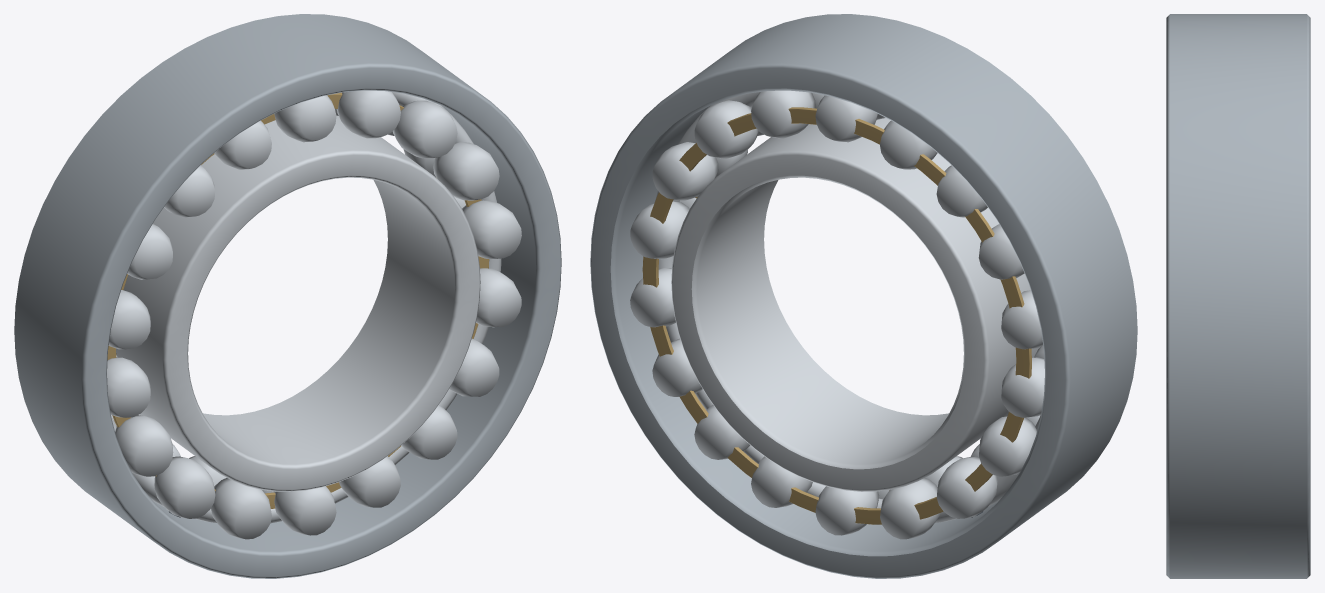
The model's file is skf-22220-e.glb.
The picture shows the model from 3 angles, left to right: view 1: azimuth 30°, elevation 25°; view 2: azimuth 150°, elevation 25°; view 3: azimuth 270°, elevation 25°; orthographic projection.
Visible parts, largest first — view 1: 外圈, 内圈, 双列滚子 (×18), W33润滑槽, 保持架; view 2: 外圈, 内圈, 双列滚子 (×18), 保持架, W33润滑槽; view 3: 外圈.
Boxes of the visible parts, x1=… form: 外圈: x1=14, y1=14, x2=561, y2=578; 内圈: x1=116, y1=115, x2=480, y2=491; 双列滚子 (×18): x1=107, y1=90, x2=521, y2=539; W33润滑槽: x1=111, y1=92, x2=501, y2=523; 保持架: x1=107, y1=92, x2=489, y2=508; 外圈: x1=590, y1=14, x2=1137, y2=578; 内圈: x1=671, y1=118, x2=1039, y2=491; 双列滚子 (×18): x1=630, y1=90, x2=1044, y2=539; 保持架: x1=642, y1=107, x2=1031, y2=524; W33润滑槽: x1=655, y1=92, x2=1040, y2=522; 外圈: x1=1166, y1=14, x2=1310, y2=578.
Size of the model in its own units: 0.18 by 0.18 by 0.046.
